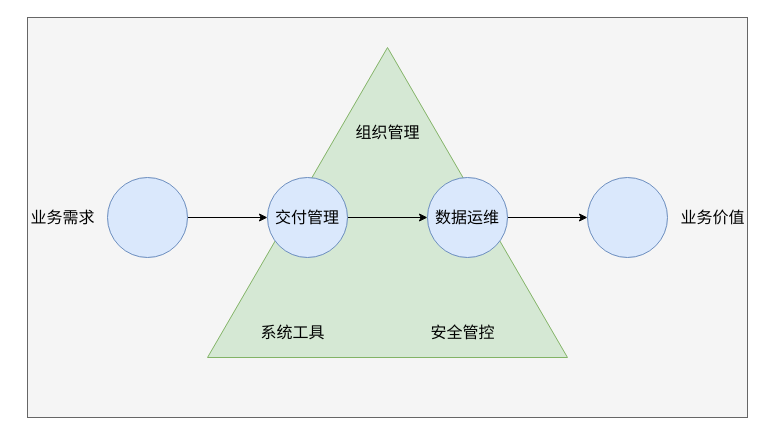
Image size: 774x435. Some labels were removed from this diagram. Here are the shapes that lost their labels. From the top down, the centre of each, then its label:
At (x=147, y=217): "研发管理".
At (x=627, y=217): "价值运营".
